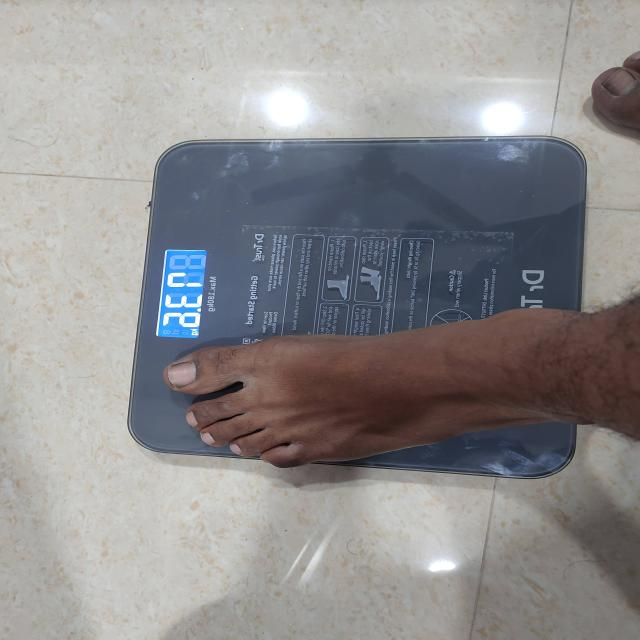ws: (126, 136, 589, 464)
